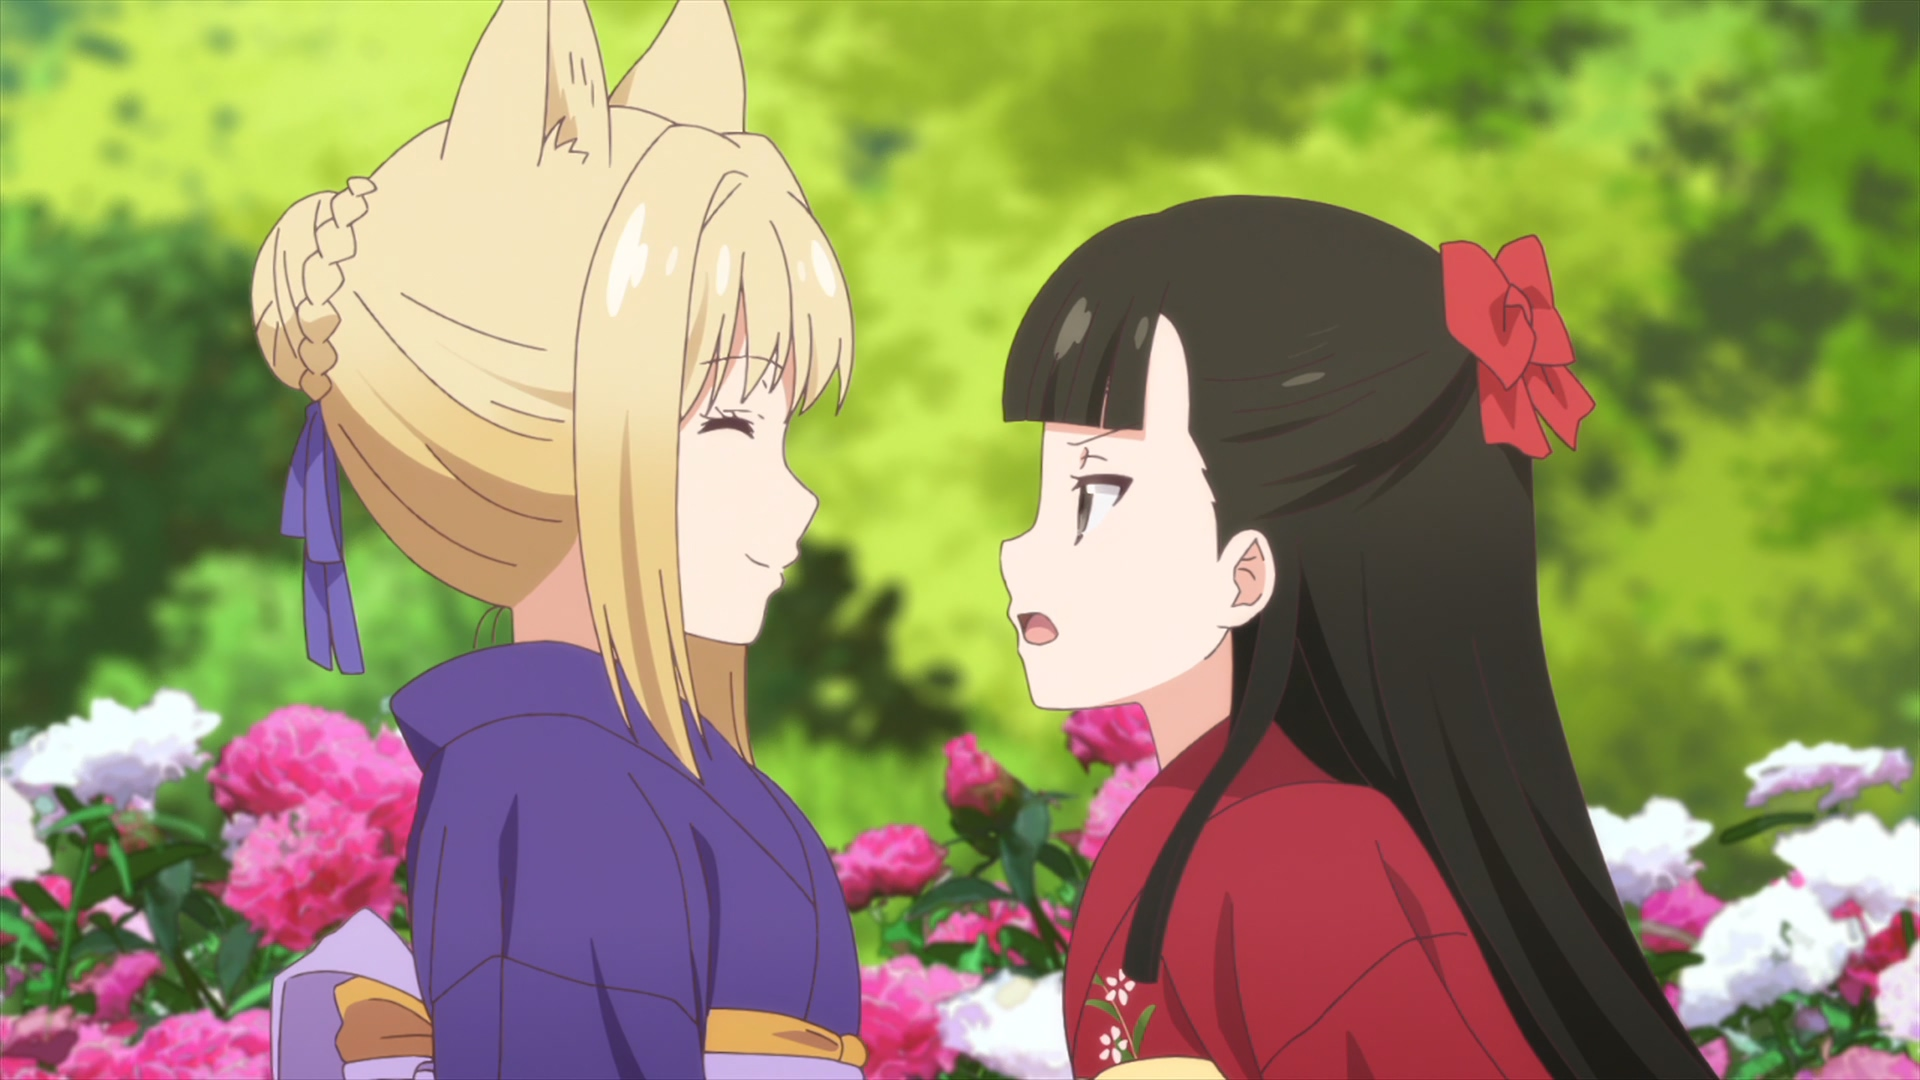其他: (1001, 196, 1716, 1080)
桐: (251, 1, 864, 1080)
